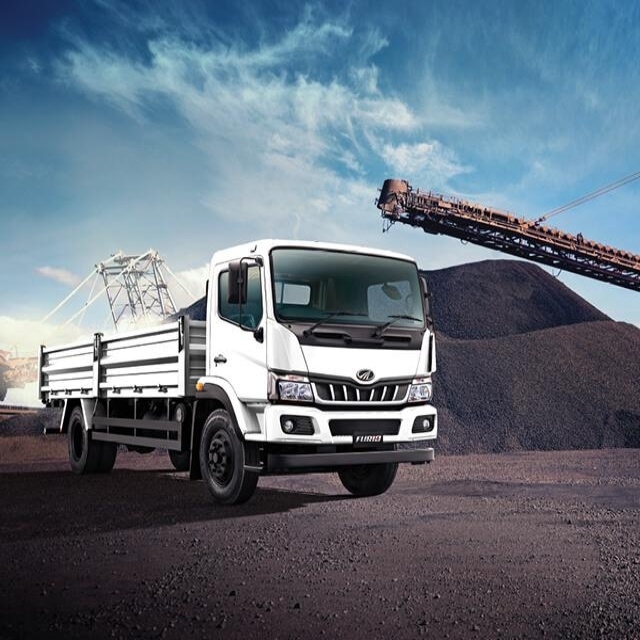Truck: (39, 237, 437, 503)
